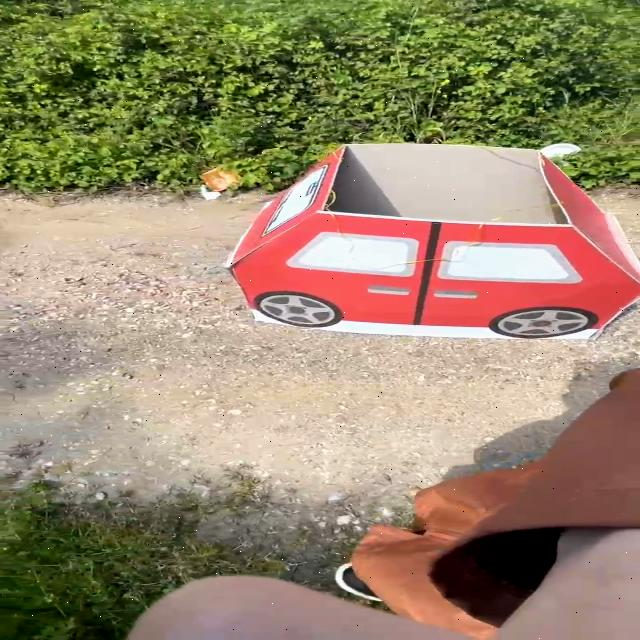red_car: (206, 123, 640, 373)
